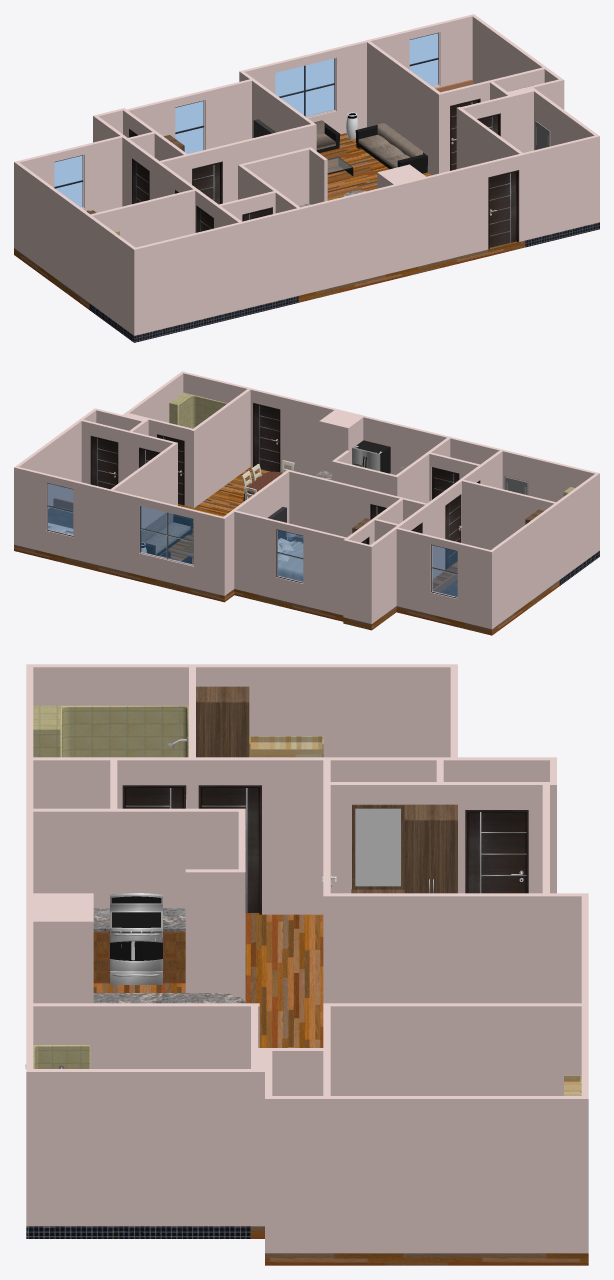
File: 3BED+Fur.glb
The picture shows the model from 3 angles, top to bottom: view 1: azimuth 30°, elevation 25°; view 2: azimuth 150°, elevation 25°; view 3: azimuth 270°, elevation 25°; orthographic projection. The views are drawn at different scales.
Parts seen in each view (by area): view 1: G-Object.113, G-Object, C-Component#10, G-Object.006, G-Object.002, _(Loose Entity), C-small window, C-small window.001, C-small window.002, G-Object.050, G-Object.217, G-Object.105 (+2 smaller); view 2: G-Object.113, G-Object, C-Component#10, G-Object.006, C-small window, C-small window.002, C-small window.001, C-Shower#2, G-Object.028, G-Object.254, G-12.001, G-Object.061 (+6 smaller); view 3: G-Object.113, G-Object, C-Shower#1, G-Object.094, G-Object.233, G-Object.234, G-Object.237, G-Object.001, G-Object.061, G-Object.155, C-HRL desk shelf, G-Object.147 (+5 smaller).
Boxes of the visible parts, <box> form: G-Object.113: <box>14,14,599,335</box>; G-Object: <box>14,133,525,309</box>; C-Component#10: <box>275,57,336,117</box>; G-Object.006: <box>489,172,516,247</box>; G-Object.002: <box>89,296,298,342</box>; _(Loose Entity): <box>327,112,409,175</box>; C-small window: <box>409,32,440,87</box>; C-small window.001: <box>175,100,205,153</box>; C-small window.002: <box>54,154,84,208</box>; G-Object.050: <box>193,163,219,204</box>; G-Object.217: <box>377,123,422,157</box>; G-Object.105: <box>132,159,148,203</box>; G-Object.113: <box>14,371,599,629</box>; G-Object: <box>14,467,559,635</box>; C-Component#10: <box>139,505,194,566</box>; G-Object.006: <box>254,404,279,471</box>; C-small window: <box>46,482,73,537</box>; C-small window.002: <box>430,544,457,598</box>; C-small window.001: <box>276,529,303,583</box>; C-Shower#2: <box>169,392,227,428</box>; G-Object.028: <box>91,437,117,489</box>; G-Object.254: <box>352,440,390,473</box>; G-12.001: <box>278,538,303,581</box>; G-Object.061: <box>446,495,460,569</box>; G-Object.113: <box>26,664,588,1253</box>; G-Object: <box>93,912,588,1265</box>; C-Shower#1: <box>33,705,188,808</box>; G-Object.094: <box>467,812,526,893</box>; G-Object.233: <box>404,804,457,893</box>; G-Object.234: <box>352,804,404,889</box>; G-Object.237: <box>196,686,249,757</box>; G-Object.001: <box>26,1226,250,1238</box>; G-Object.061: <box>201,788,259,912</box>; G-Object.155: <box>110,930,162,971</box>; C-HRL desk shelf: <box>249,736,323,757</box>; G-Object.147: <box>93,993,244,1003</box>.
Size of the model in its own units: 14.77 by 2.64 by 8.09.
60 materials, 35 textured.
